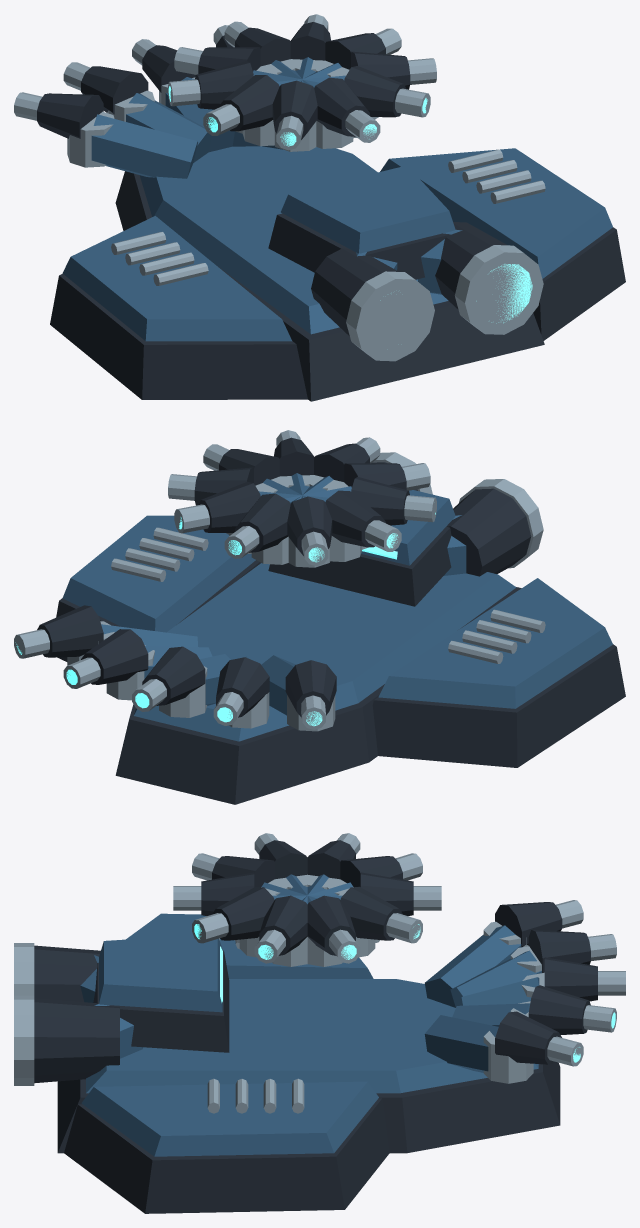
The model's file is c4_miniboss.glb.
3 views of the same model, one above another, from view 1: azimuth 30°, elevation 25°; view 2: azimuth 150°, elevation 25°; view 3: azimuth 270°, elevation 25° (orthographic).
Visible parts, largest first — view 1: miniboss / Armor, miniboss / Chassis, miniboss / Titanium, ring_rotor / Chassis, ring_rotor / Titanium, ring_rotor / Armor, miniboss / Energy, ring_rotor / Energy; view 2: miniboss / Armor, miniboss / Chassis, ring_rotor / Chassis, miniboss / Titanium, ring_rotor / Titanium, ring_rotor / Armor, miniboss / Energy, ring_rotor / Energy; view 3: miniboss / Armor, miniboss / Chassis, ring_rotor / Chassis, miniboss / Titanium, ring_rotor / Titanium, ring_rotor / Armor.
Part boxes in pixels (x1,y1,x2,y2): miniboss / Armor: [62, 77, 612, 341]; miniboss / Chassis: [37, 35, 625, 401]; miniboss / Titanium: [14, 25, 545, 361]; ring_rotor / Chassis: [195, 22, 410, 139]; ring_rotor / Titanium: [168, 14, 436, 151]; ring_rotor / Armor: [253, 57, 345, 87]; miniboss / Energy: [380, 264, 532, 323]; ring_rotor / Energy: [168, 86, 427, 146]; miniboss / Armor: [62, 490, 612, 741]; miniboss / Chassis: [37, 462, 625, 804]; ring_rotor / Chassis: [194, 437, 409, 555]; miniboss / Titanium: [14, 452, 545, 731]; ring_rotor / Titanium: [168, 430, 436, 567]; ring_rotor / Armor: [259, 473, 351, 503]; miniboss / Energy: [15, 546, 397, 726]; ring_rotor / Energy: [179, 512, 435, 562]; miniboss / Armor: [80, 913, 541, 1156]; miniboss / Chassis: [34, 902, 597, 1213]; ring_rotor / Chassis: [201, 840, 413, 955]; miniboss / Titanium: [14, 900, 625, 1113]; ring_rotor / Titanium: [173, 833, 441, 966]; ring_rotor / Armor: [261, 874, 353, 904].
Size of the model in its own units: 1.78 by 0.785 by 1.96.
